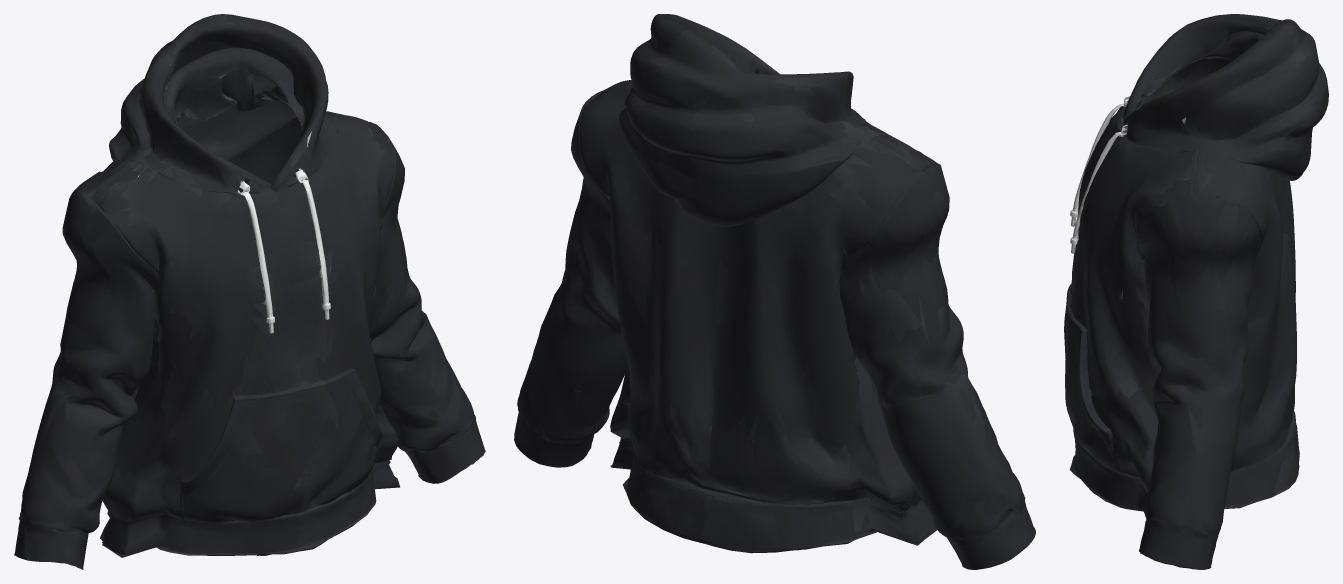
Rendered from top_hoodie.glb.
3 renders of one model, left to right at view 1: azimuth 30°, elevation 25°; view 2: azimuth 150°, elevation 25°; view 3: azimuth 270°, elevation 25°, orthographic. The views are drawn at different scales.
Visible parts, largest first — view 1: hoodie; view 2: hoodie; view 3: hoodie.
Boxes of the visible parts, x1,y1,x2,y2 form: hoodie: [14, 14, 485, 569]; hoodie: [514, 14, 1035, 569]; hoodie: [1064, 14, 1328, 569].
Bounding box in the file's own units: 0.6763 × 0.6525 × 0.3382.
1 material, 1 textured.
